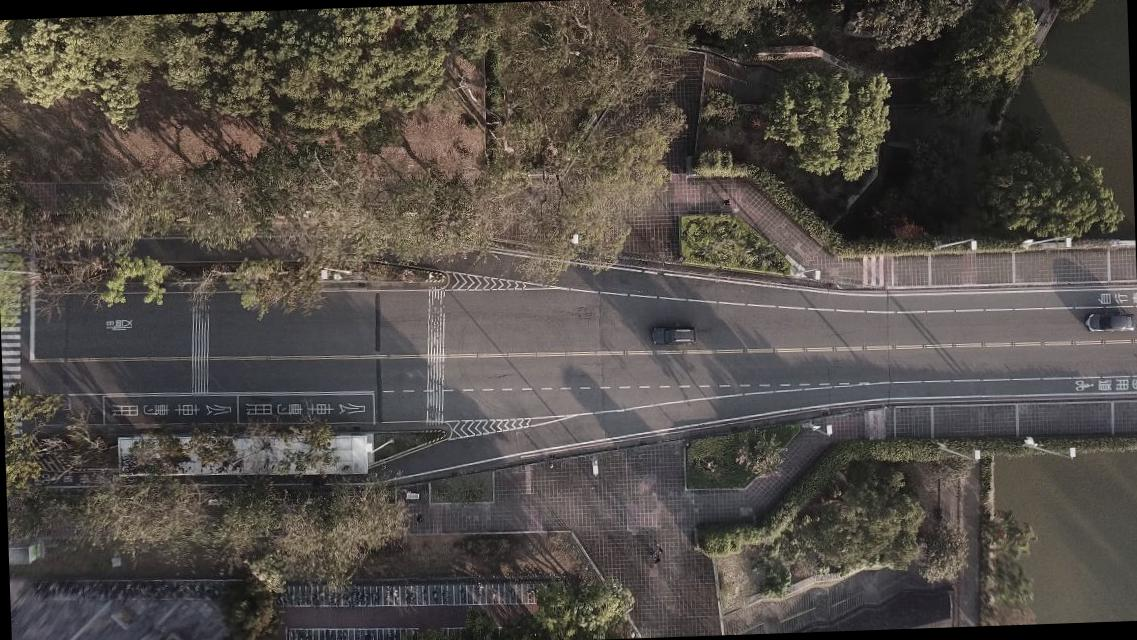vehicle: (1083, 311, 1136, 333), (650, 324, 696, 346)
